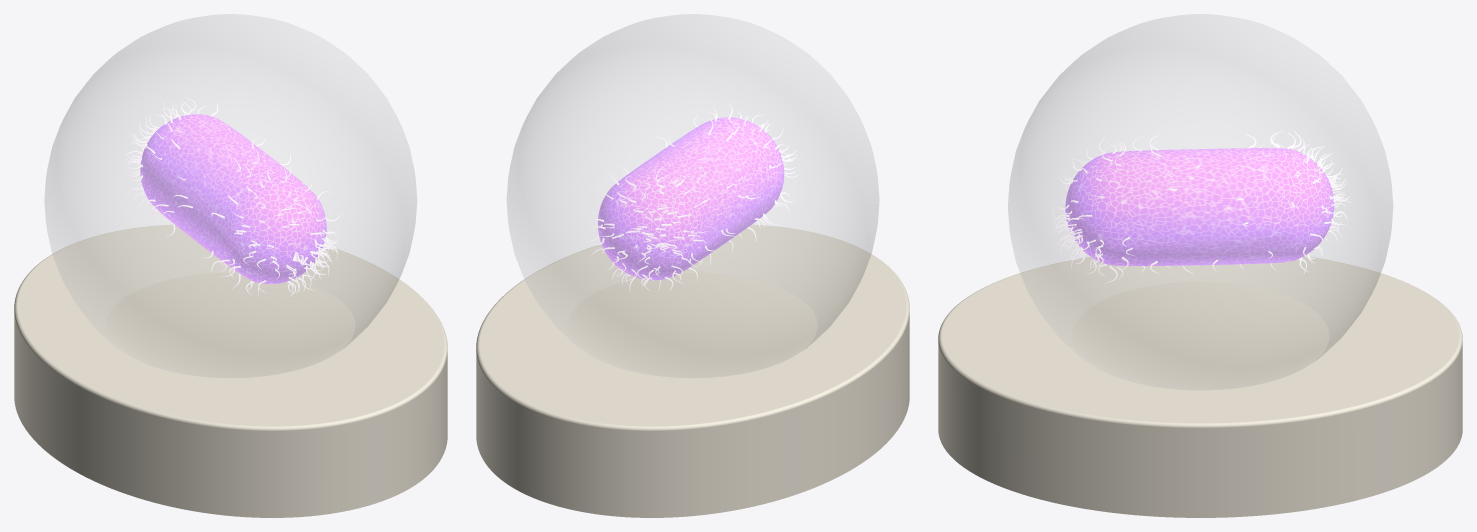
The model's file is bacteria_large_01.glb.
3 renders of one model, left to right at view 1: azimuth 30°, elevation 25°; view 2: azimuth 150°, elevation 25°; view 3: azimuth 270°, elevation 25°, orthographic. The views are drawn at different scales.
Parts seen in each view (by area): view 1: VITRINA_Campana_Bacteria, PEANA_Bacteria, Bacteria_Grande, Bacteria_Grande_Pili; view 2: VITRINA_Campana_Bacteria, PEANA_Bacteria, Bacteria_Grande, Bacteria_Grande_Pili; view 3: PEANA_Bacteria, VITRINA_Campana_Bacteria, Bacteria_Grande, Bacteria_Grande_Pili.
Boxes of the visible parts, bbox=[...] form: VITRINA_Campana_Bacteria: bbox=[44, 14, 416, 377]; PEANA_Bacteria: bbox=[14, 224, 447, 517]; Bacteria_Grande: bbox=[140, 114, 326, 283]; Bacteria_Grande_Pili: bbox=[124, 97, 341, 296]; VITRINA_Campana_Bacteria: bbox=[507, 14, 879, 377]; PEANA_Bacteria: bbox=[476, 224, 909, 517]; Bacteria_Grande: bbox=[598, 117, 784, 280]; Bacteria_Grande_Pili: bbox=[582, 103, 799, 292]; PEANA_Bacteria: bbox=[938, 256, 1462, 517]; VITRINA_Campana_Bacteria: bbox=[1008, 14, 1392, 389]; Bacteria_Grande: bbox=[1065, 148, 1334, 265]; Bacteria_Grande_Pili: bbox=[1051, 130, 1350, 283].
Size of the model in its own units: 1.11 by 1.16 by 1.39.
Materials: 4 (1 with a texture image).
